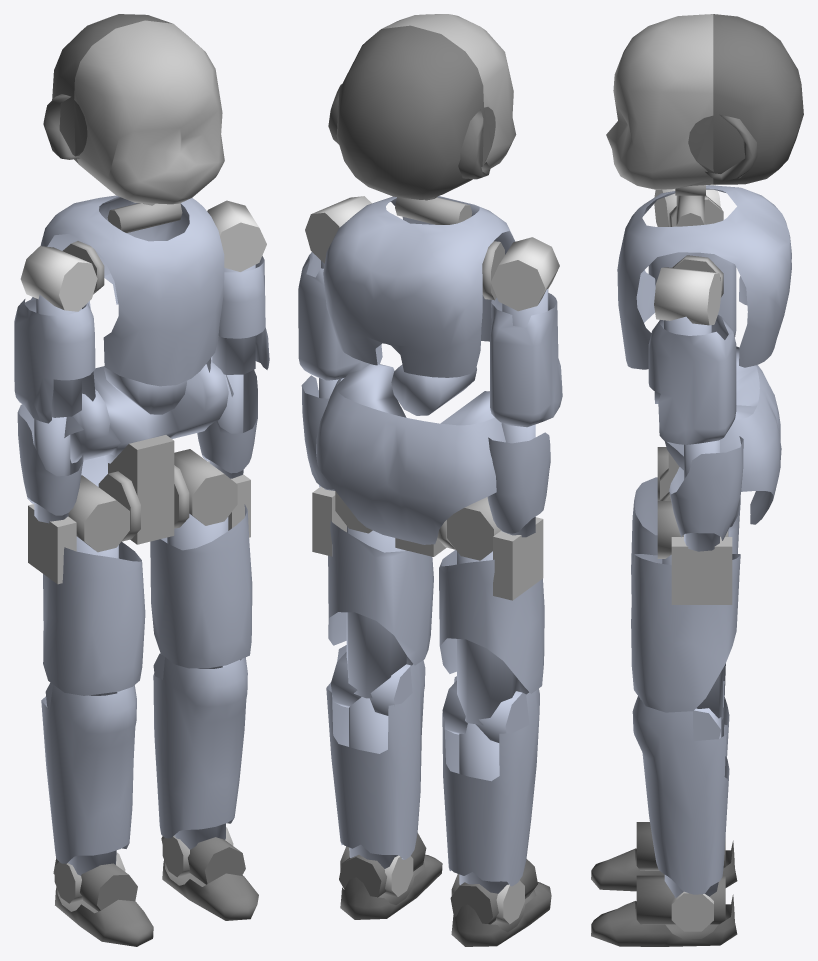
File: icub_simple_collision.dae
3 renders of one model, left to right at view 1: azimuth 30°, elevation 25°; view 2: azimuth 150°, elevation 25°; view 3: azimuth 270°, elevation 25°, orthographic. The views are drawn at different scales.
Parts seen in each view (by area): view 1: head_mesh, torso_mesh, l_shank_mesh, r_shank_mesh, l_thigh_mesh, r_thigh_mesh, pelvis_mesh, r_arm_mesh, r_forearm_mesh, r_foot_mesh, l_arm_mesh, l_foot_mesh (+14 smaller); view 2: head_mesh, torso_mesh, pelvis_mesh, l_thigh_mesh, r_thigh_mesh, l_shank_mesh, r_shank_mesh, r_arm_mesh, r_forearm_mesh, l_arm_mesh, r_foot_mesh, l_foot_mesh (+10 smaller); view 3: head_mesh, torso_mesh, l_shank_mesh, l_thigh_mesh, l_arm_mesh, l_forearm_mesh, pelvis_mesh, l_foot_mesh, l_hand_mesh, l_shoulder_2_mesh, r_foot_mesh, r_thigh_mesh (+7 smaller).
Part boxes in pixels (left/top/right/bottom): head_mesh: left=43, top=14, right=224, bottom=204; torso_mesh: left=40, top=195, right=224, bottom=386; l_shank_mesh: left=153, top=657, right=247, bottom=849; r_shank_mesh: left=41, top=684, right=136, bottom=875; l_thigh_mesh: left=150, top=504, right=252, bottom=679; r_thigh_mesh: left=43, top=536, right=145, bottom=709; pelvis_mesh: left=64, top=360, right=233, bottom=486; r_arm_mesh: left=14, top=294, right=95, bottom=423; r_forearm_mesh: left=17, top=404, right=83, bottom=523; r_foot_mesh: left=53, top=858, right=153, bottom=946; l_arm_mesh: left=206, top=256, right=269, bottom=374; l_foot_mesh: left=161, top=836, right=258, bottom=920; head_mesh: left=328, top=14, right=516, bottom=199; torso_mesh: left=323, top=196, right=515, bottom=377; pelvis_mesh: left=316, top=364, right=505, bottom=544; l_thigh_mesh: left=328, top=520, right=433, bottom=715; r_thigh_mesh: left=439, top=550, right=544, bottom=742; l_shank_mesh: left=326, top=645, right=425, bottom=868; r_shank_mesh: left=442, top=676, right=539, bottom=893; r_arm_mesh: left=490, top=289, right=562, bottom=427; r_forearm_mesh: left=487, top=423, right=550, bottom=537; l_arm_mesh: left=298, top=252, right=382, bottom=380; r_foot_mesh: left=450, top=859, right=551, bottom=946; l_foot_mesh: left=339, top=833, right=442, bottom=919; head_mesh: left=606, top=14, right=803, bottom=189; torso_mesh: left=617, top=185, right=791, bottom=369; l_shank_mesh: left=632, top=696, right=729, bottom=897; l_thigh_mesh: left=631, top=554, right=740, bottom=740; l_arm_mesh: left=648, top=315, right=736, bottom=444; l_forearm_mesh: left=669, top=436, right=743, bottom=551; pelvis_mesh: left=654, top=348, right=781, bottom=524; l_foot_mesh: left=591, top=875, right=737, bottom=946; l_hand_mesh: left=671, top=537, right=732, bottom=604; l_shoulder_2_mesh: left=654, top=267, right=721, bottom=325; r_foot_mesh: left=591, top=822, right=737, bottom=891; r_thigh_mesh: left=631, top=477, right=740, bottom=595.
Size of the model in its own units: 0.2951 by 0.2276 by 1.04.
